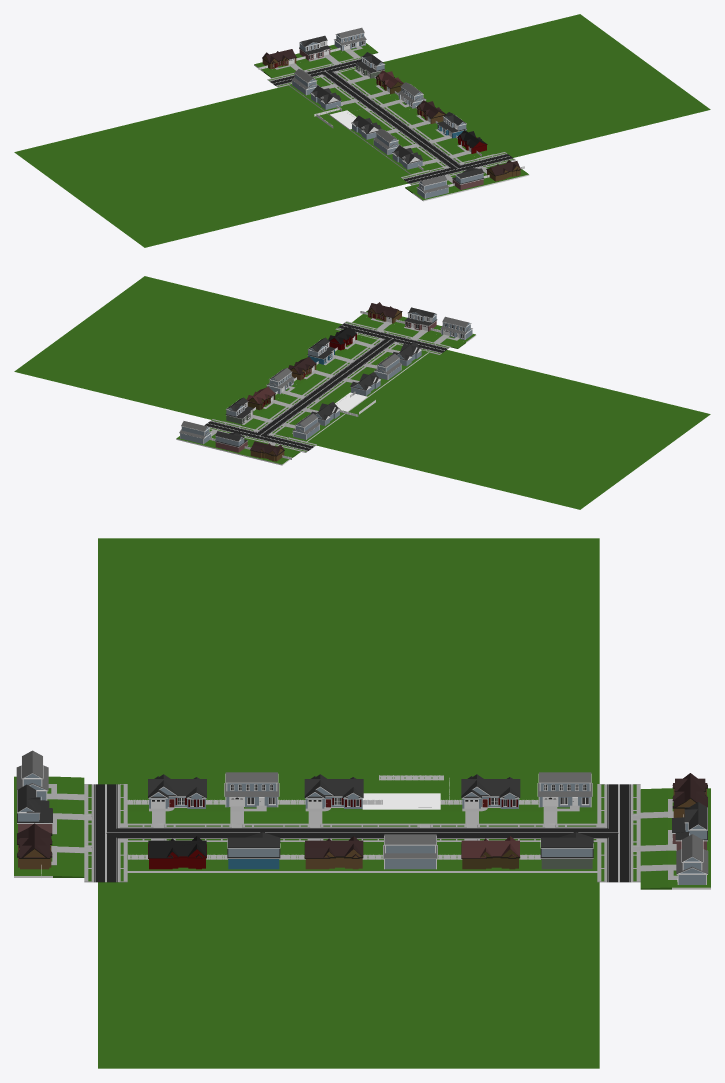
File: neighborhood.glb
The picture shows the model from 3 angles, top to bottom: view 1: azimuth 30°, elevation 25°; view 2: azimuth 150°, elevation 25°; view 3: azimuth 270°, elevation 25°; orthographic projection. The views are drawn at different scales.
Visible parts, largest first — view 1: Object_12.036; view 2: Object_12.036; view 3: Object_12.036.
Part boxes in pixels (left/top/right/bottom): Object_12.036: left=14, top=14, right=710, bottom=247; Object_12.036: left=14, top=276, right=710, bottom=509; Object_12.036: left=14, top=538, right=710, bottom=1068.
Bounding box in the file's own units: 1281 × 34.85 × 712.
